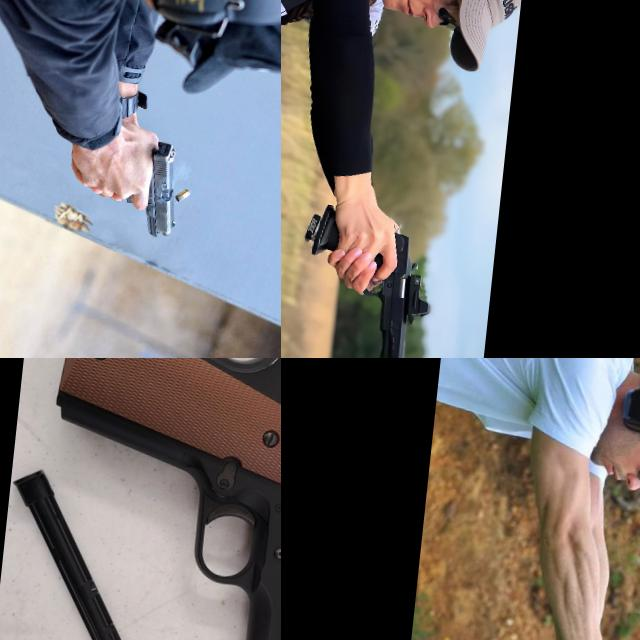handgun: (12, 358, 281, 640), (349, 219, 440, 358), (120, 136, 184, 242)
